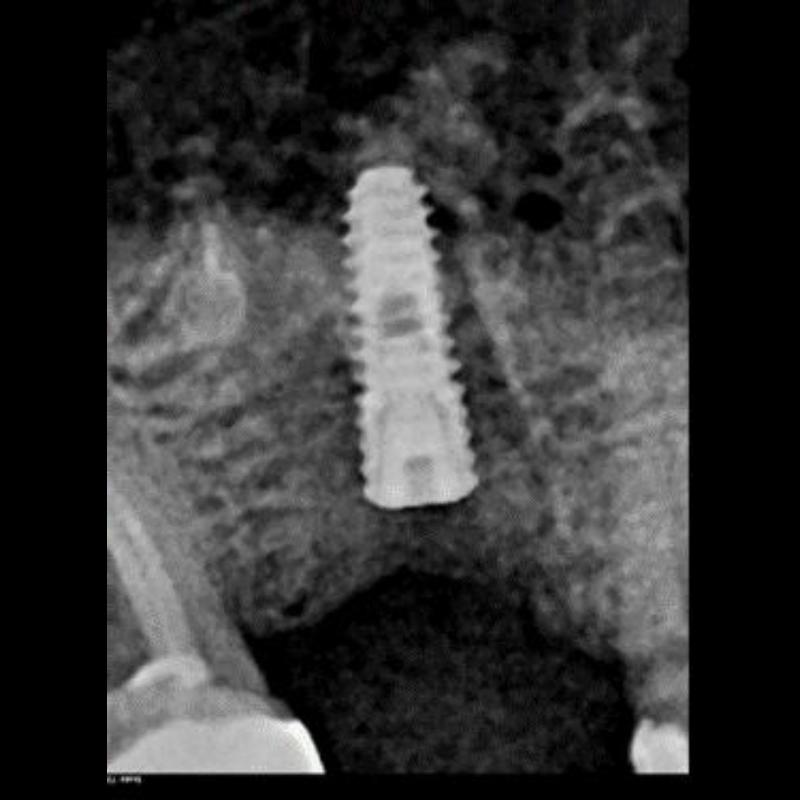osstem: (326, 166, 482, 512)
